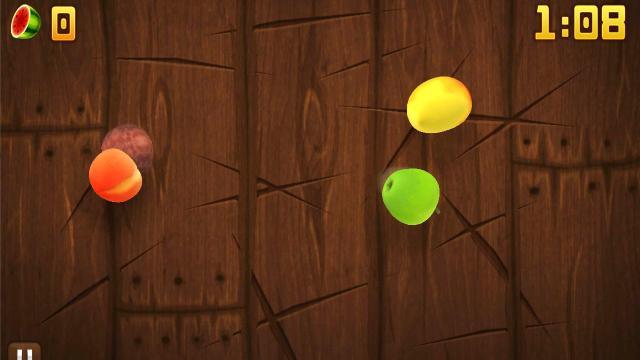fruit: (405, 76, 473, 134), (382, 167, 440, 224), (88, 148, 144, 202), (100, 124, 156, 174)
ignore: (10, 3, 42, 41)
